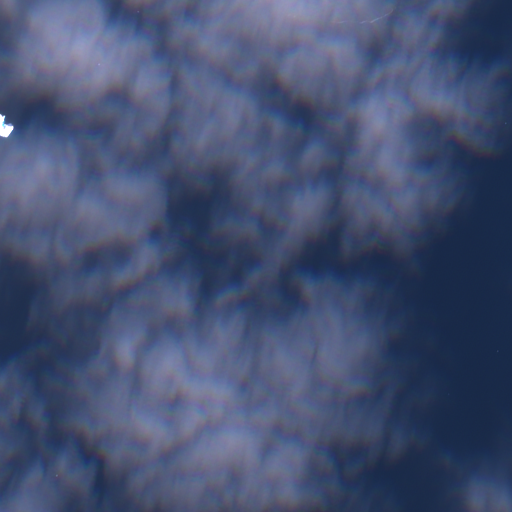Iceberg: (0, 113, 13, 137)
